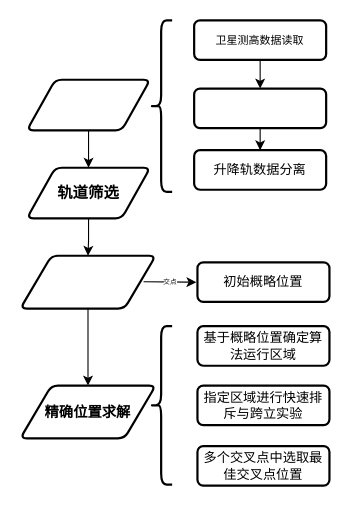
Some shapes in this 349 by 505 pixel diagram are drawn without their labels. Each missing label, with the box of its shape:
实验区域数据裁剪: (193, 87, 327, 129)
数据预处理: (25, 78, 151, 131)
曲线拟合: (19, 254, 156, 309)
